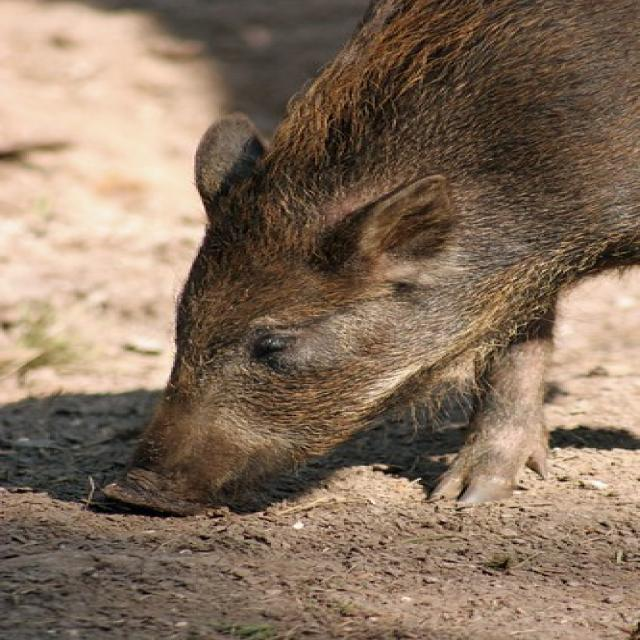boar: (90, 0, 639, 563)
